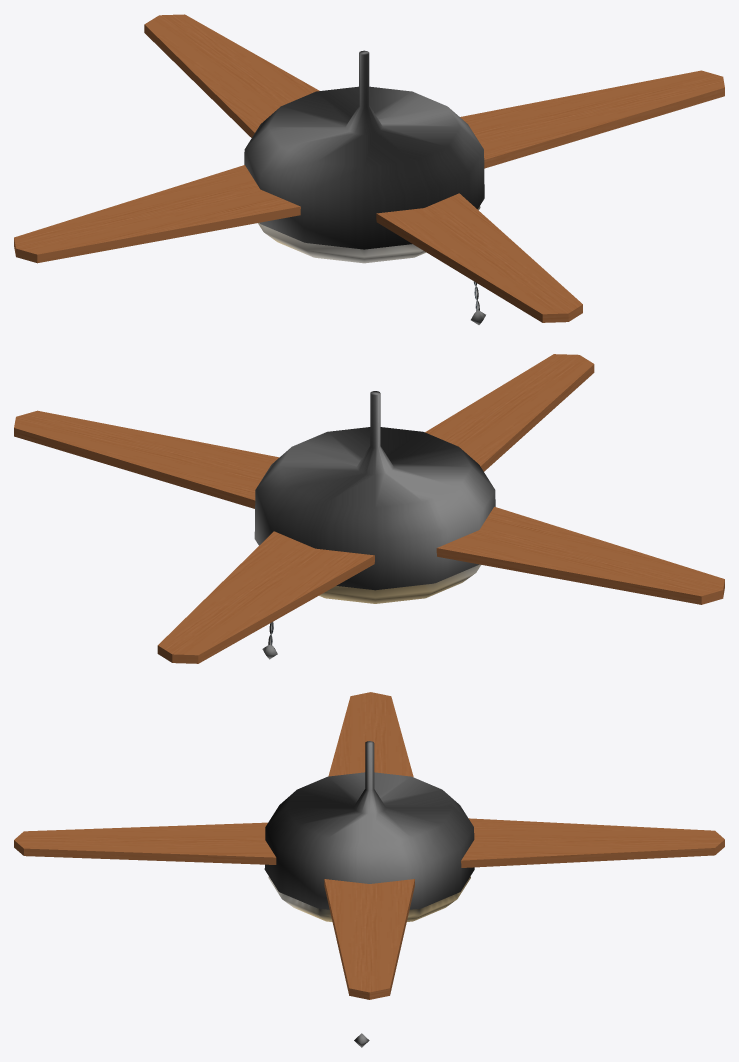
Rendered from Ceiling_Fan_A.FBX.
3 views of the same model, one above another, from view 1: azimuth 30°, elevation 25°; view 2: azimuth 150°, elevation 25°; view 3: azimuth 270°, elevation 25° (orthographic). The views are drawn at different scales.
Parts seen in each view (by area): view 1: Fan_Blades, Ceiling_Fan; view 2: Fan_Blades, Ceiling_Fan; view 3: Fan_Blades, Ceiling_Fan.
Boxes of the visible parts, <box> form: Fan_Blades: <box>14,14,724,322</box>; Ceiling_Fan: <box>244,50,485,324</box>; Fan_Blades: <box>14,354,724,663</box>; Ceiling_Fan: <box>254,391,495,659</box>; Fan_Blades: <box>14,692,724,999</box>; Ceiling_Fan: <box>264,741,474,1047</box>.
Size of the model in its own units: 409 by 164 by 409.
